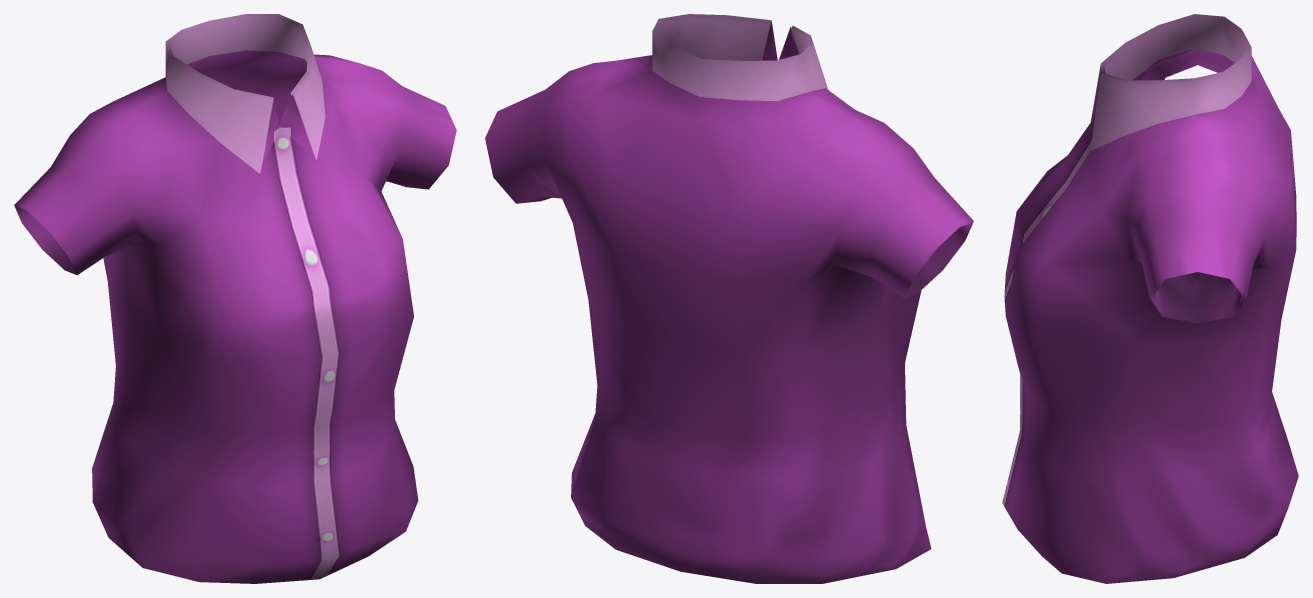
The model's file is TPFShirtAS.fbx.
3 views of the same model, side by side, from view 1: azimuth 30°, elevation 25°; view 2: azimuth 150°, elevation 25°; view 3: azimuth 270°, elevation 25° (orthographic). The views are drawn at different scales.
Parts seen in each view (by area): view 1: TPFShirtAS; view 2: TPFShirtAS; view 3: TPFShirtAS.
Boxes of the visible parts, <box> form: TPFShirtAS: <box>14,14,456,583</box>; TPFShirtAS: <box>485,14,973,583</box>; TPFShirtAS: <box>1002,14,1298,583</box>.
Bounding box in the file's own units: 40.95 × 44.68 × 24.65.
Materials: 1 (1 with a texture image).
